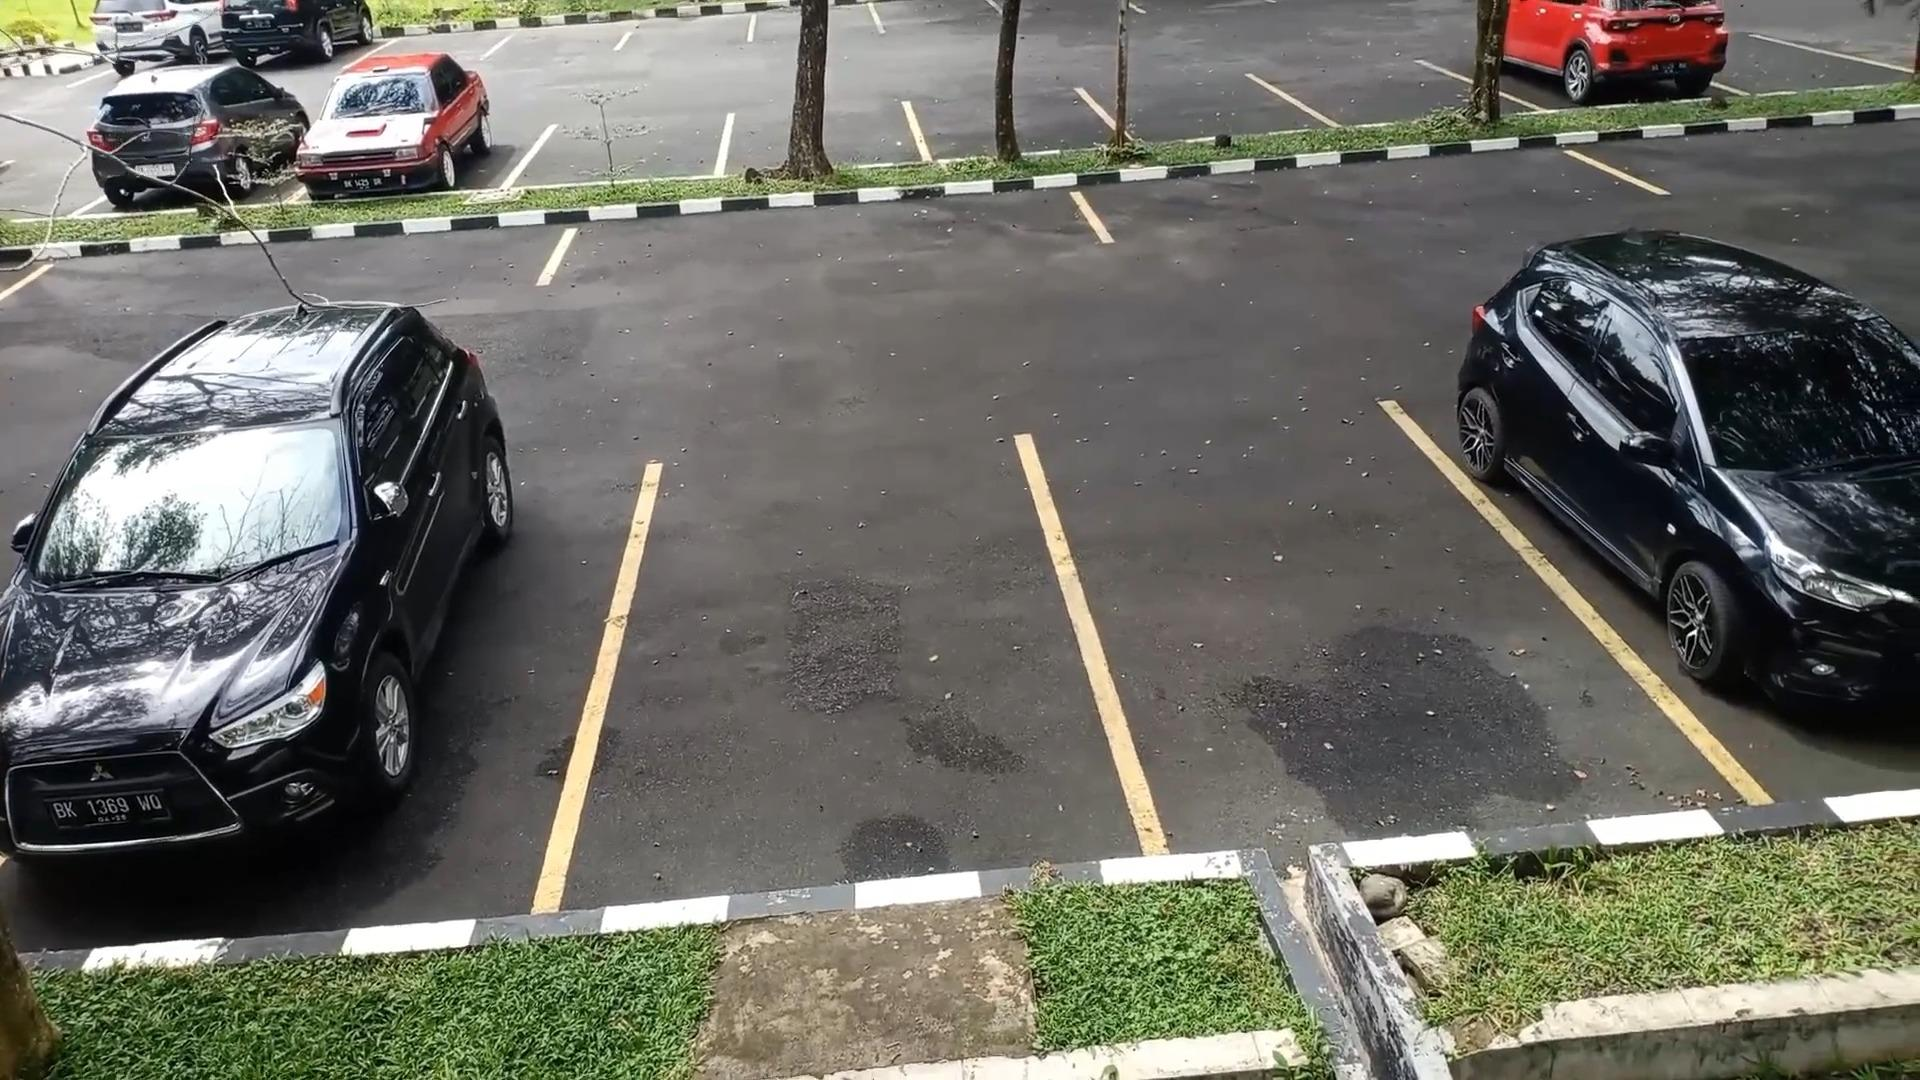empty: (596, 440, 1079, 868), (1072, 416, 1492, 849), (1083, 143, 1656, 253), (542, 186, 1104, 289), (522, 99, 732, 187), (1087, 69, 1289, 145), (717, 97, 918, 172), (1290, 51, 1470, 126), (914, 85, 1096, 159)
occupied: (12, 433, 599, 941), (1496, 320, 1920, 781), (296, 70, 525, 201), (1509, 1, 1737, 109)
